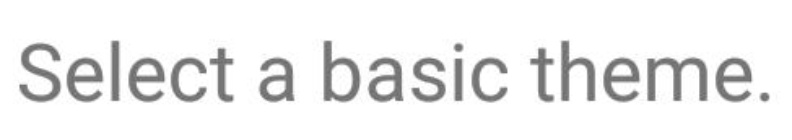TextView: (1, 1, 791, 139)
